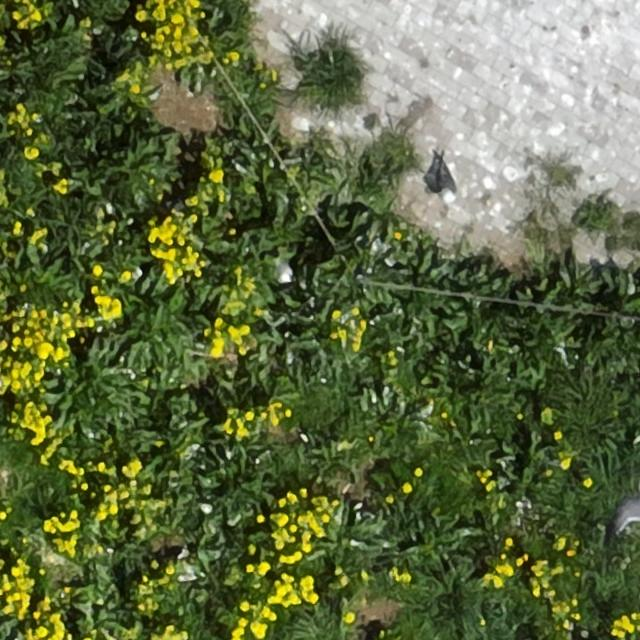umineko: (264, 252, 298, 284), (439, 168, 455, 202)
